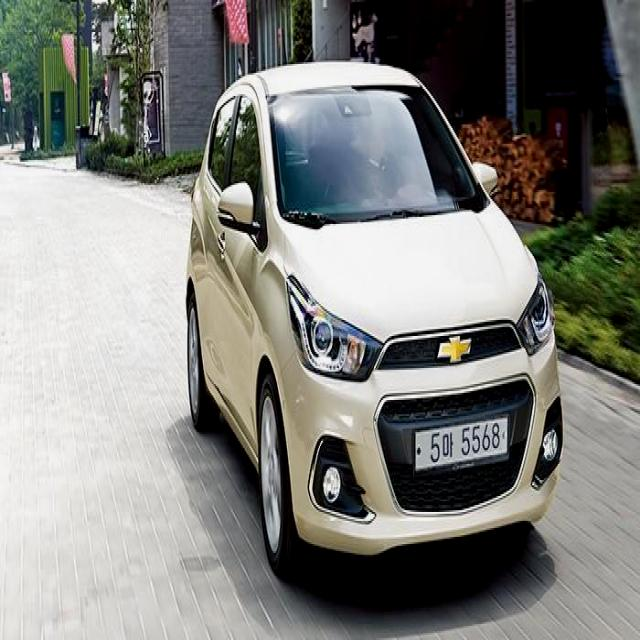car: (183, 51, 569, 592)
illegal_plate: (411, 414, 511, 477)
